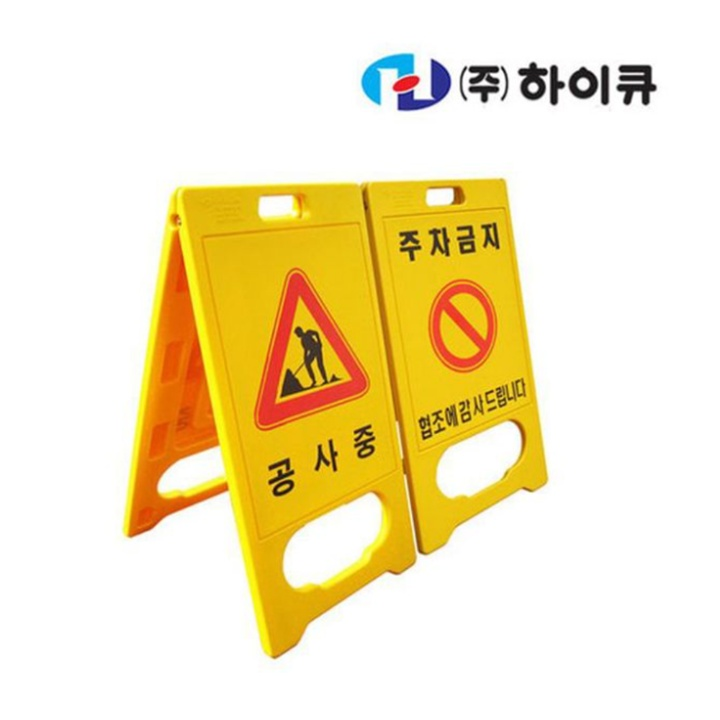const: (275, 313, 343, 401)
